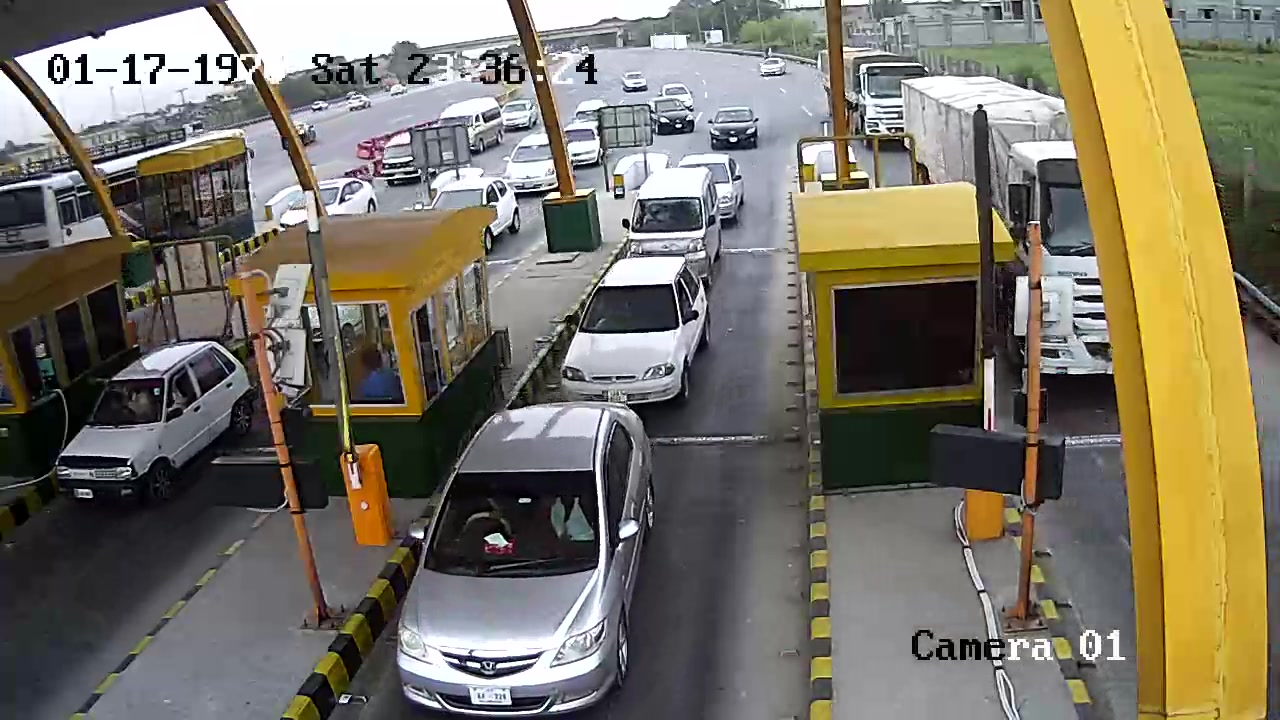F1: (397, 398, 688, 714), (554, 256, 715, 420), (630, 161, 723, 273)
